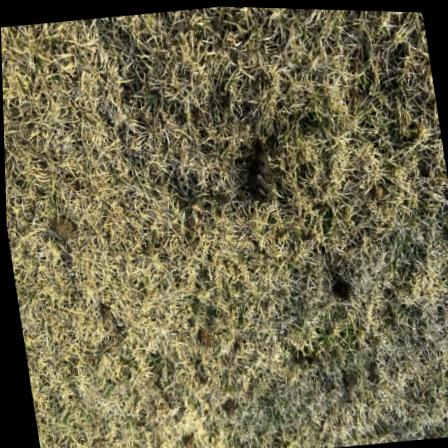dog-poop: (236, 135, 279, 206), (329, 272, 352, 300)
